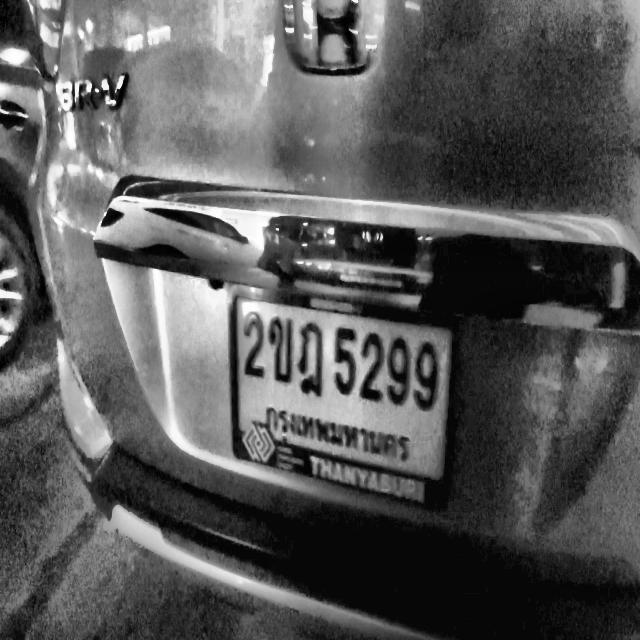license-plate: (238, 297, 448, 485)
